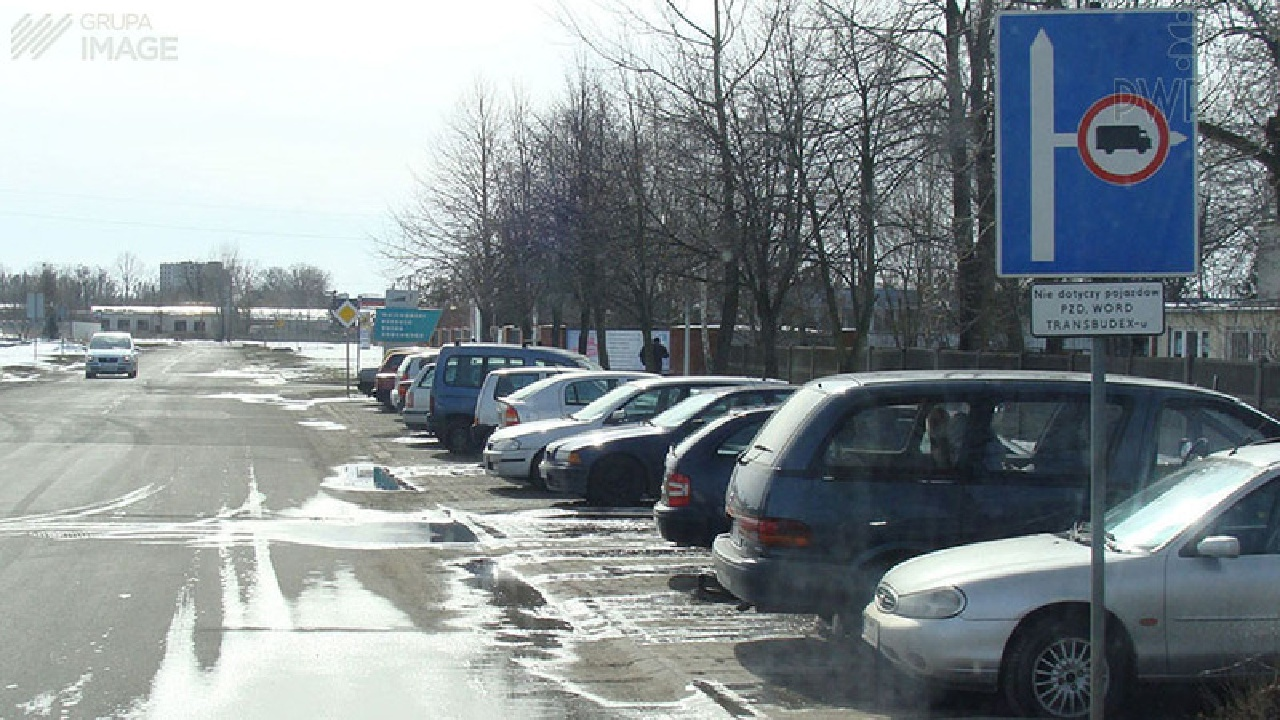B5: (1077, 92, 1170, 187)
D1: (333, 300, 361, 328)
